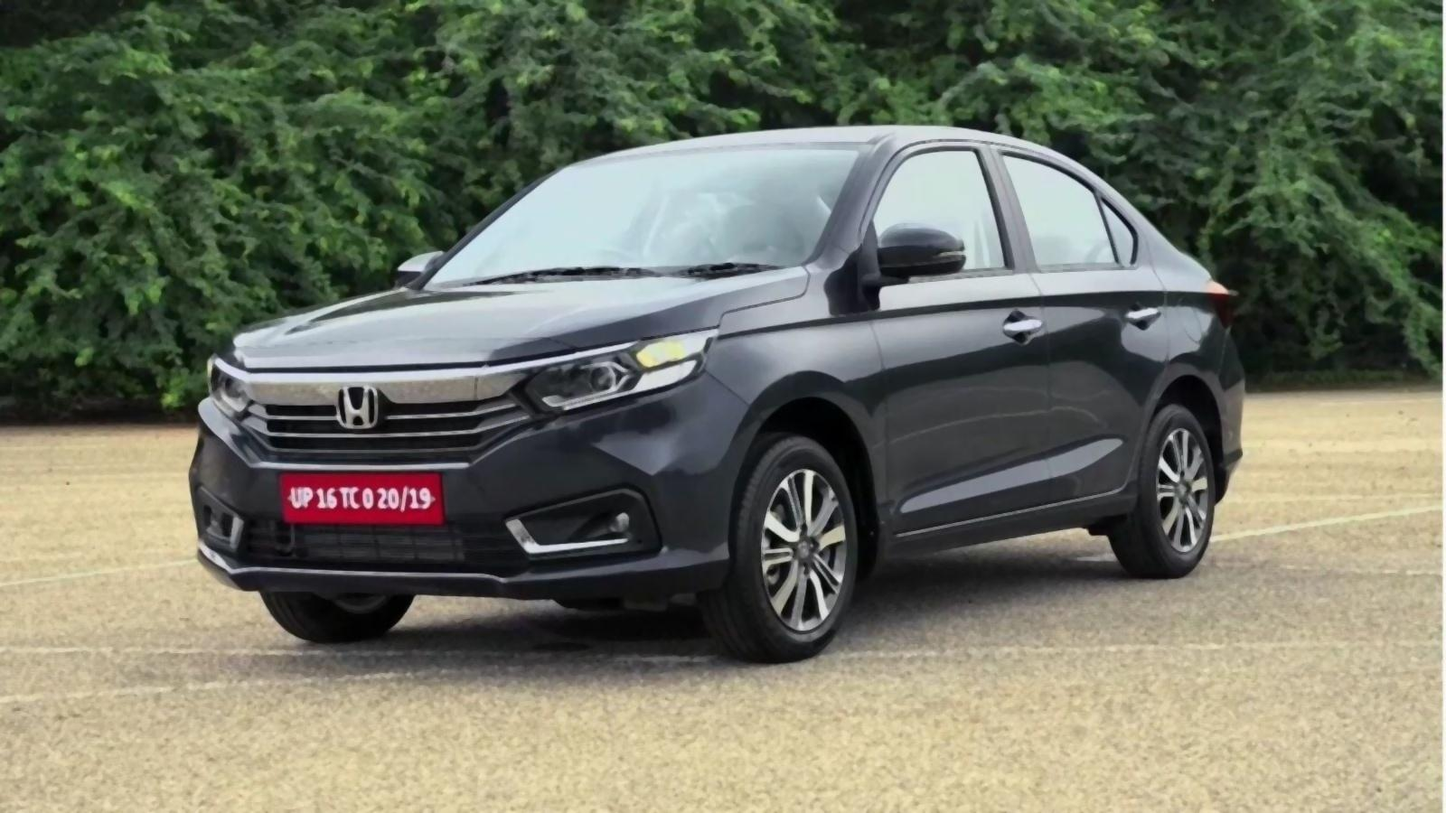Car hood: (207, 265, 812, 375)
Fender - -F-L-: (704, 241, 897, 577)
Fender - -R-L-: (1130, 209, 1232, 516)
Front bumper: (180, 368, 765, 605)
Headlight - -L-: (514, 324, 722, 420)
Headlight - -R-: (203, 351, 256, 428)
Passenger-s door - -F-L-: (846, 114, 1059, 589)
Passenger-s door - -R-L-: (989, 103, 1173, 567)
Rear bumper: (1199, 347, 1259, 483)
Rear light - -L-: (1200, 276, 1241, 336)
Side bumper - -L-: (850, 462, 1165, 600)
Side mirror - -L-: (848, 226, 968, 317)
Side mirror - -R-: (388, 247, 448, 301)
